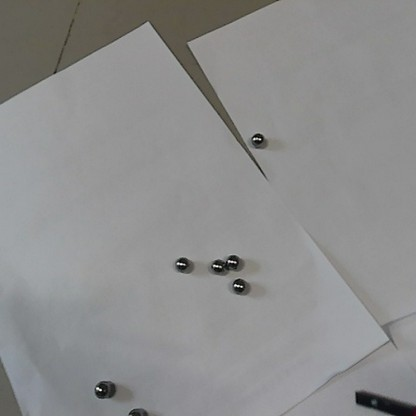ironball: (91, 380, 114, 401), (125, 403, 153, 414), (231, 278, 247, 296), (207, 258, 224, 274), (251, 131, 266, 149), (225, 253, 239, 271), (173, 255, 187, 272)
